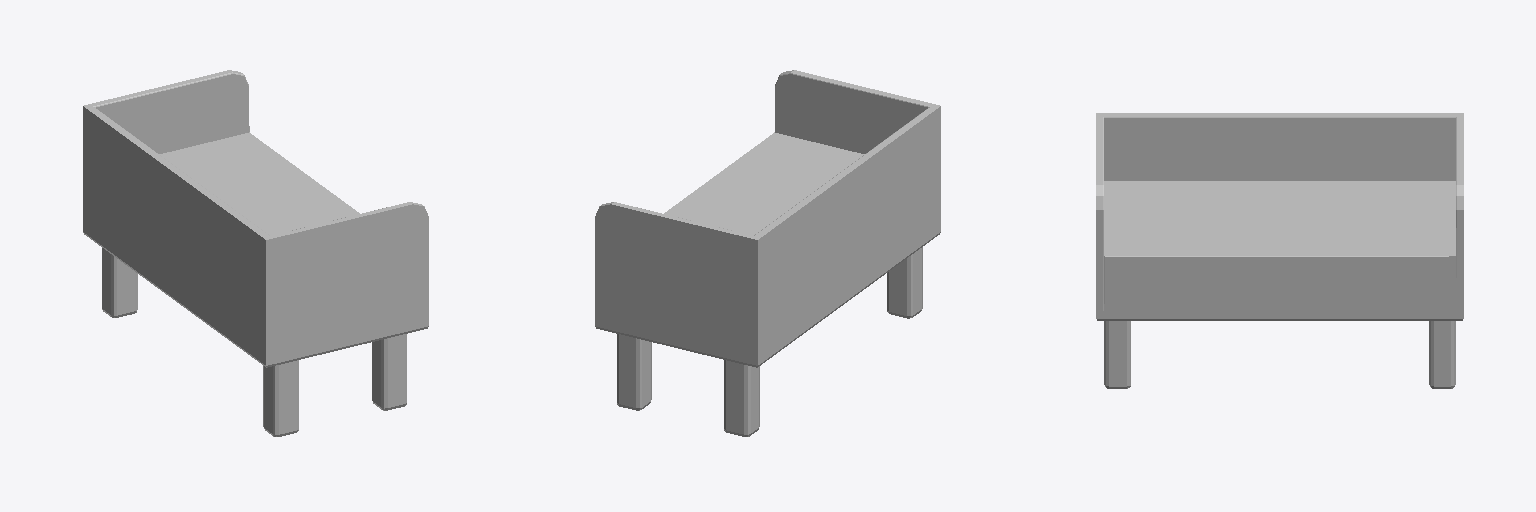
Rendered from Meja bawah.obj.
3 views of the same model, side by side, from view 1: azimuth 30°, elevation 25°; view 2: azimuth 150°, elevation 25°; view 3: azimuth 270°, elevation 25° (orthographic).
Parts seen in each view (by area): view 1: pCube71 set_meja_1; view 2: pCube71 set_meja_1; view 3: pCube71 set_meja_1.
Part boxes in pixels (bbox=[...]): pCube71 set_meja_1: bbox=[83, 70, 428, 436]; pCube71 set_meja_1: bbox=[595, 70, 940, 436]; pCube71 set_meja_1: bbox=[1096, 113, 1463, 388].
Size of the model in its own units: 1.36 by 1.64 by 2.65.